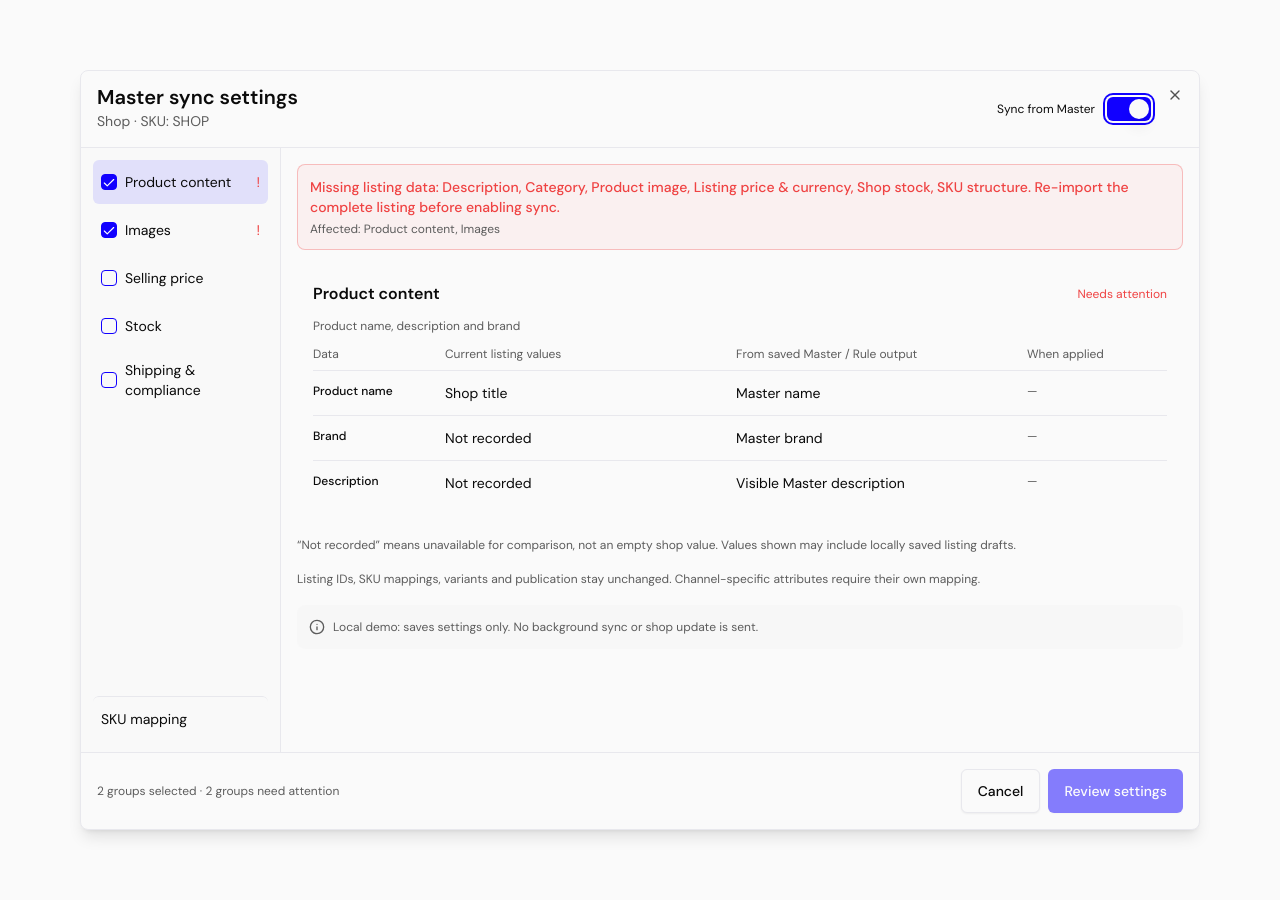
Five-group sync dialog › shows comparison values and images immediately, including when sync is off
Expected: the text "Shop title" is shown, [445,384,507,402]
Expected: the text "Master name" is shown, [736,384,820,402]
What coordinates should you click on to do the following:
click the button with aria-label "View Images"
I would click on:
 (192, 230)
Its box is [125,208,260,252].
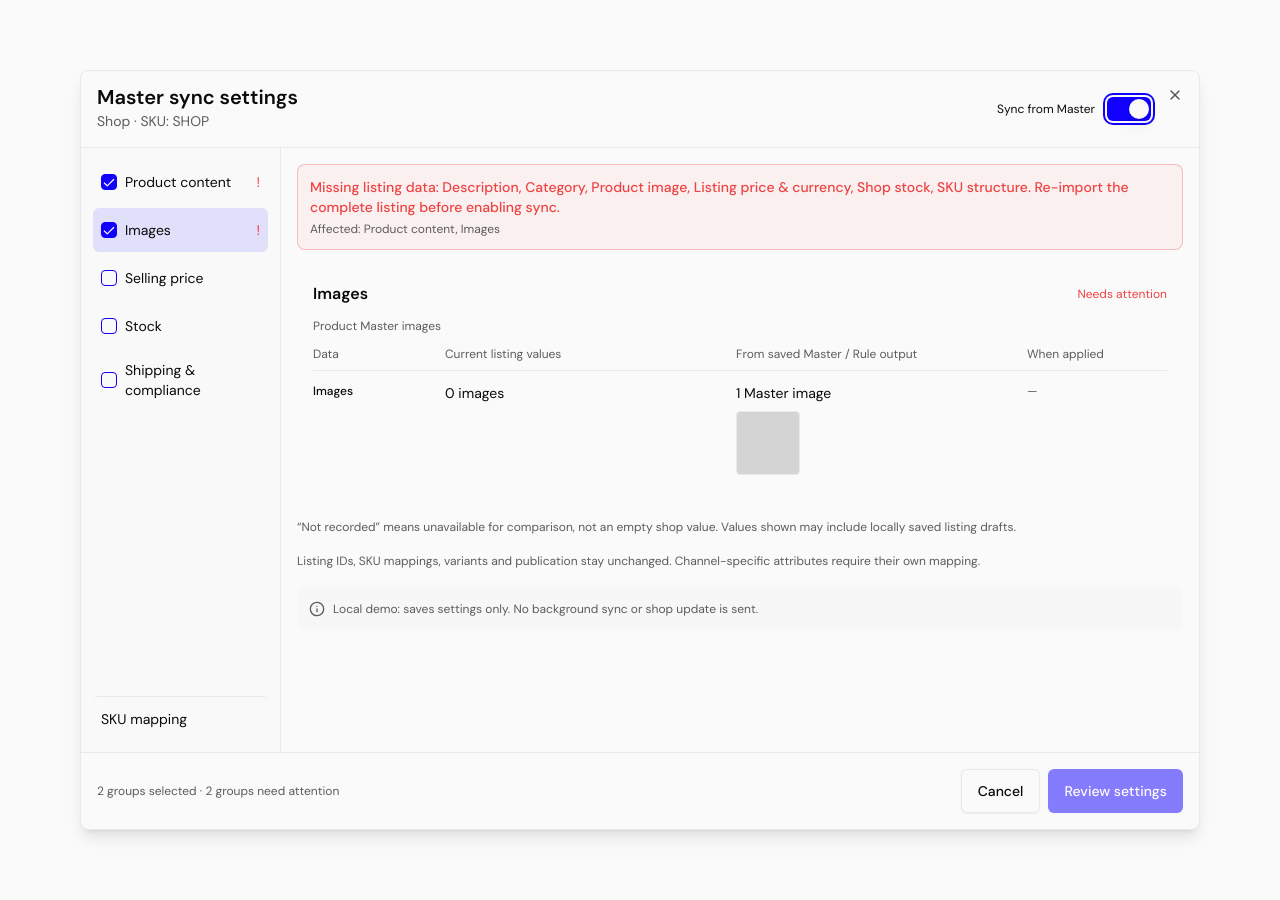
What coordinates should you click on to do the following:
click the button with aria-label "View Product content"
I would click on:
 (192, 182)
Its box is [125,160,260,204].
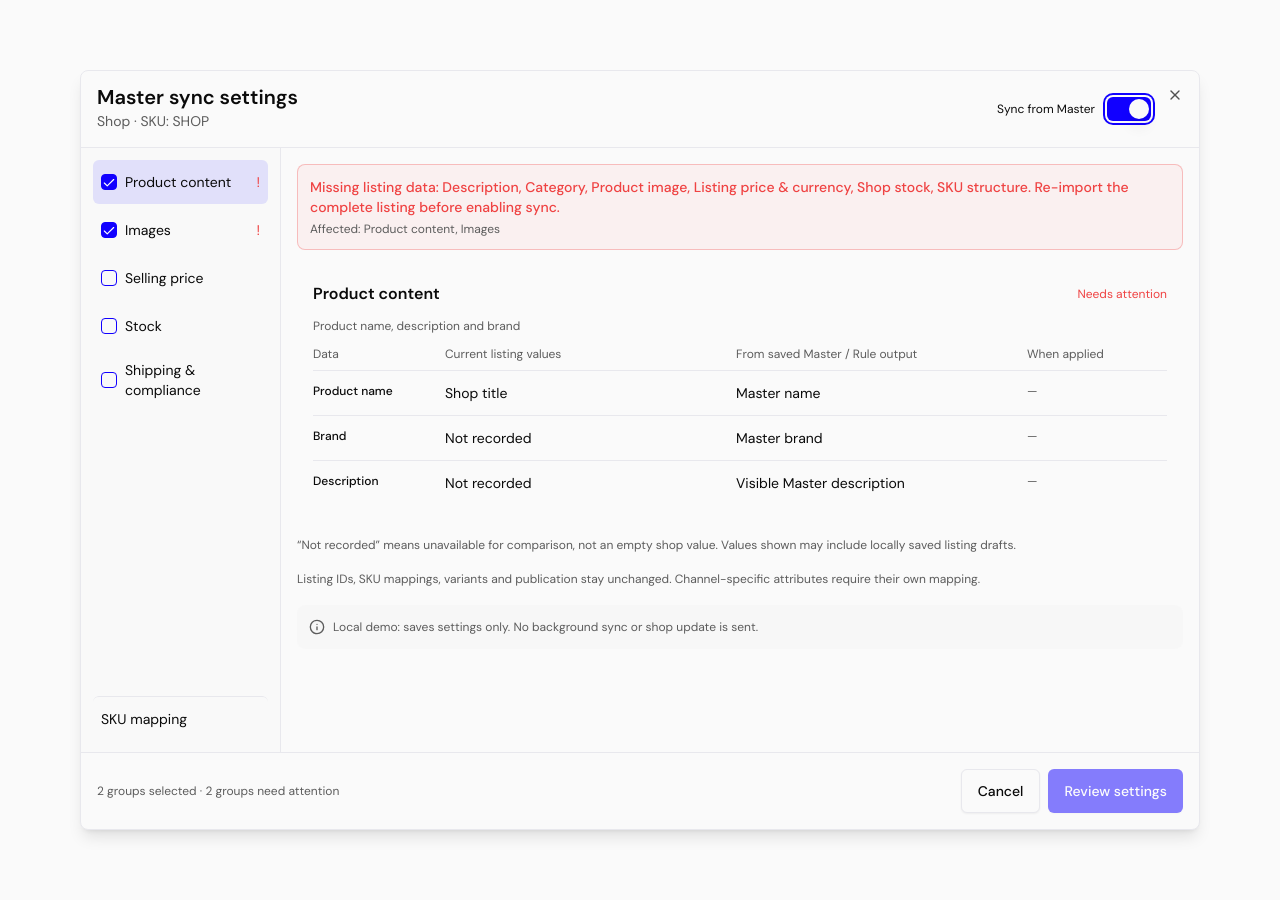
What coordinates should you click on to do the following:
click the switch named "Sync from Master"
I would click on:
 (1129, 109)
Its box is [1107,97,1151,121].
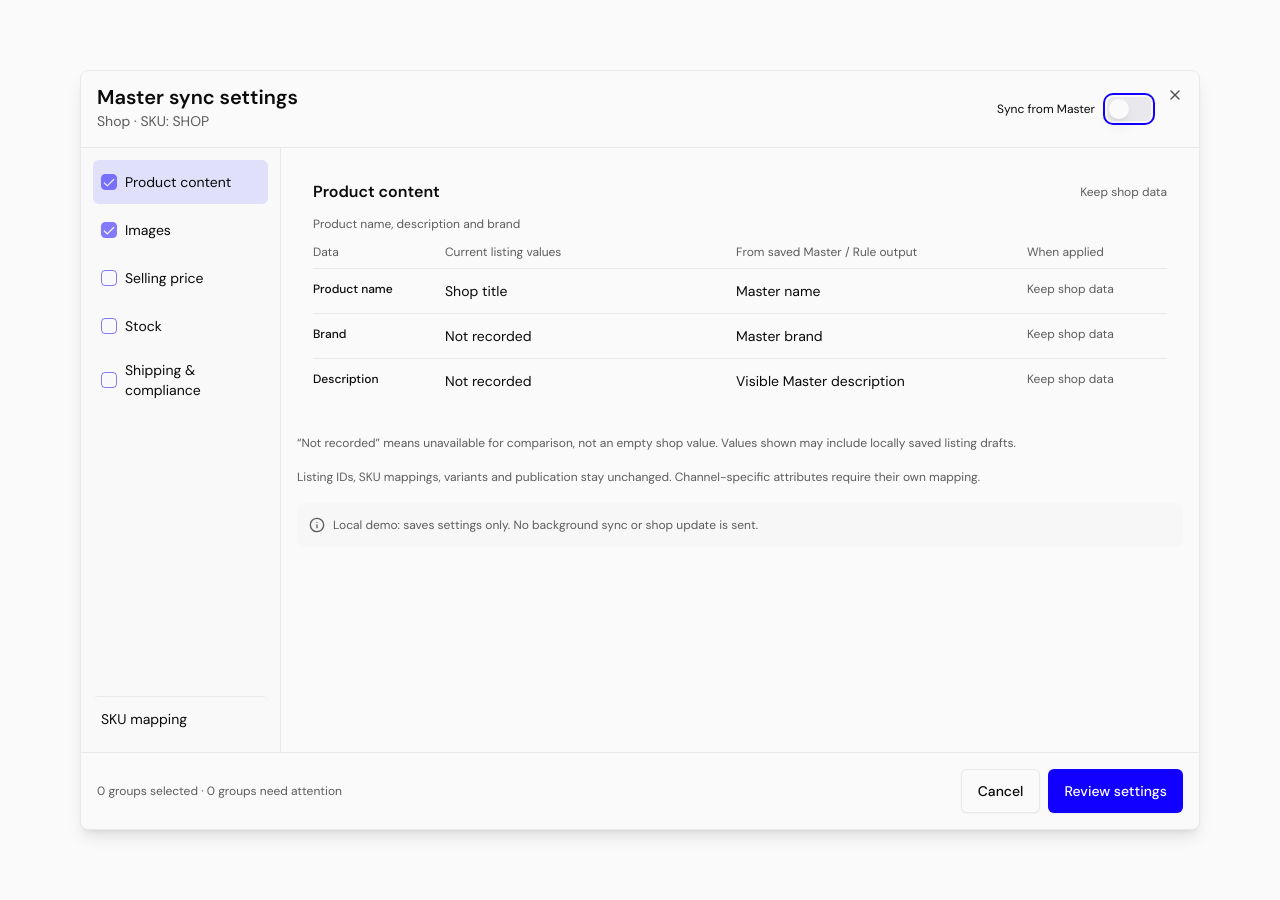
Now the text "Shop title" is shown, box [445,282,507,300]
Now the text "Master name" is shown, box [736,282,820,300]
Now the checkbox named "Product content" is disabled, box [101,174,117,190]
